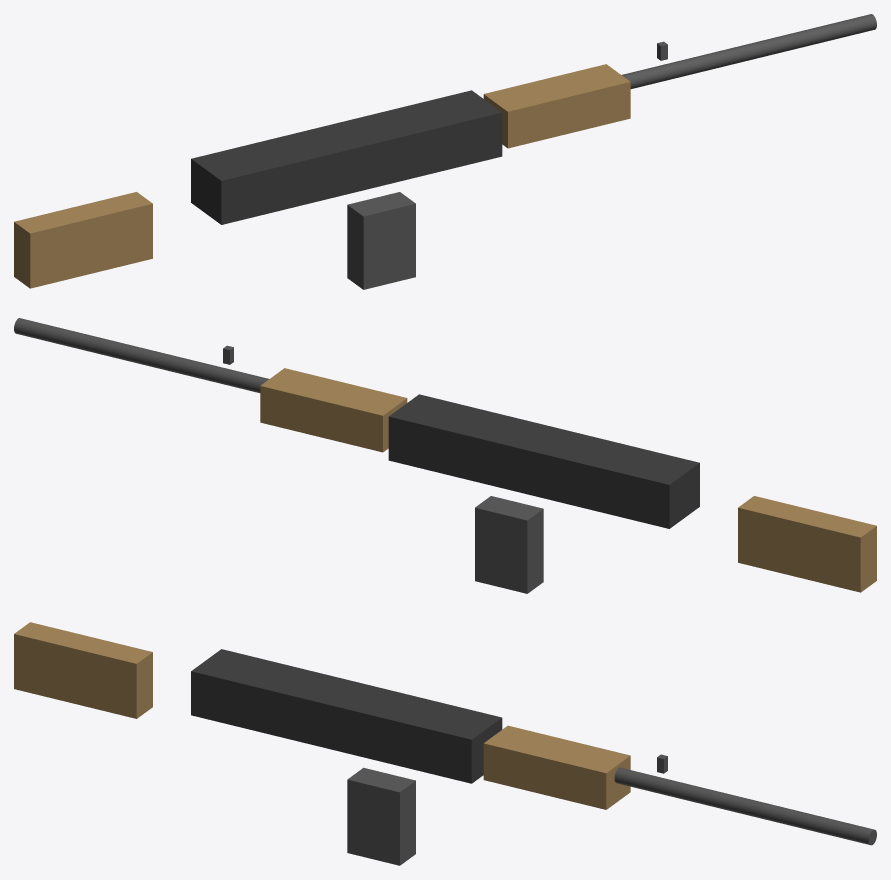
The picture shows the model from 3 angles, top to bottom: view 1: azimuth 30°, elevation 25°; view 2: azimuth 150°, elevation 25°; view 3: azimuth 330°, elevation 25°; orthographic projection.
Parts seen in each view (by area): view 1: Cube; view 2: Cube; view 3: Cube.
Part boxes in pixels (x1,y1,x2,y2): Cube: (14, 14, 876, 289); Cube: (14, 318, 876, 593); Cube: (14, 622, 876, 865).
Bounding box in the file's own units: 2.43 × 0.45 × 0.15.
